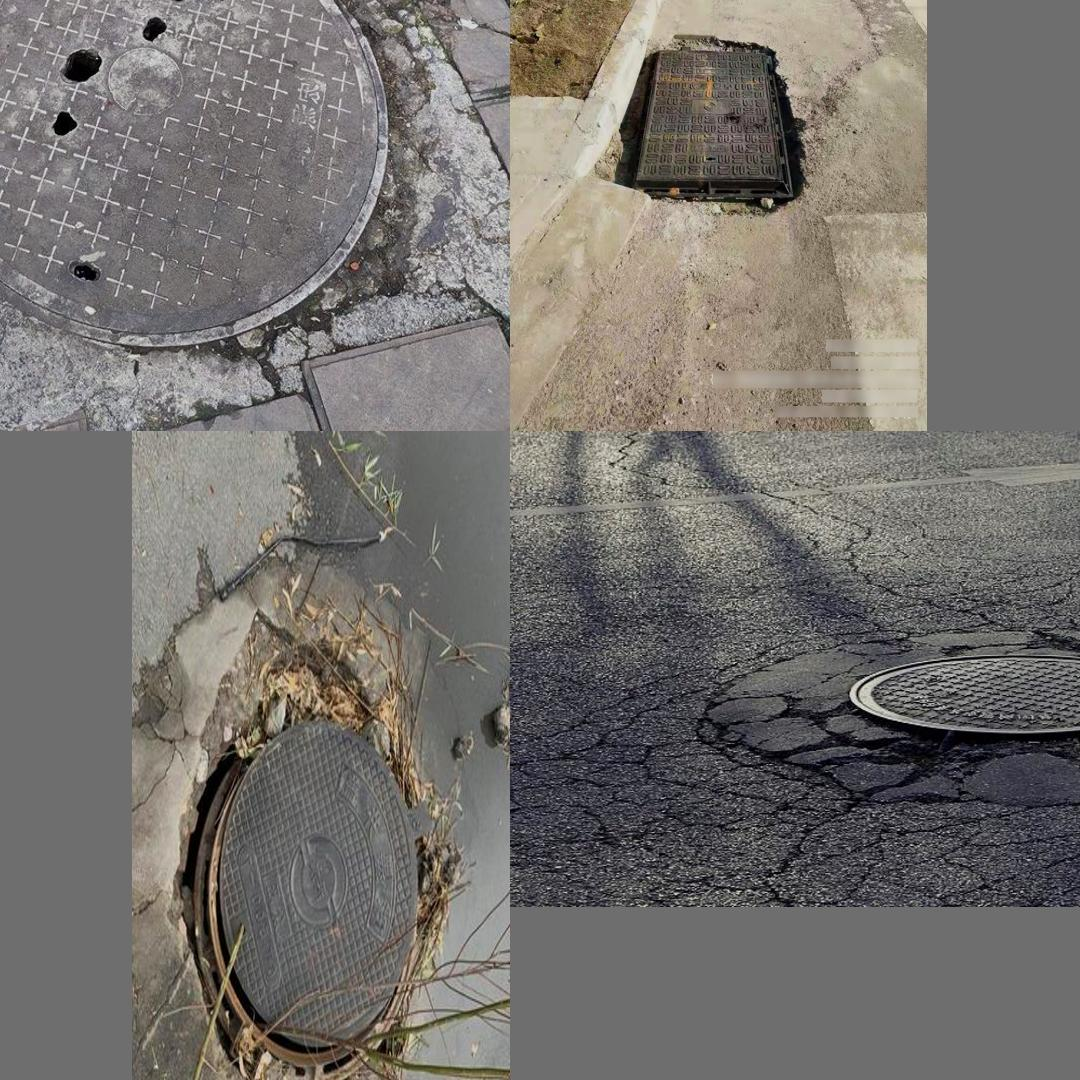circle: (0, 0, 490, 416), (137, 548, 471, 1080), (691, 606, 1080, 827), (611, 41, 805, 210)
